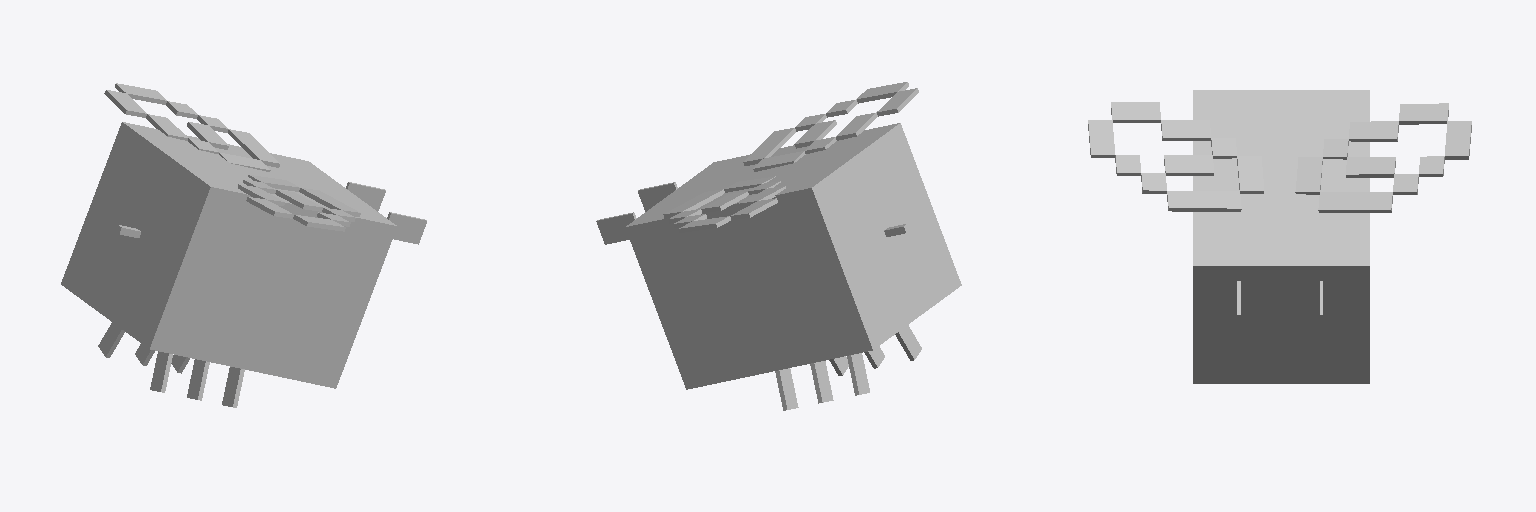
The model's file is Bee_ (205).obj.
3 renders of one model, left to right at view 1: azimuth 30°, elevation 25°; view 2: azimuth 150°, elevation 25°; view 3: azimuth 270°, elevation 25°, orthographic.
Visible parts, largest first — view 1: b_Bee_MAT_0, r_Bee_MAT_0, l_Bee_MAT_0; view 2: b_Bee_MAT_0, l_Bee_MAT_0, r_Bee_MAT_0; view 3: b_Bee_MAT_0, l_Bee_MAT_0, r_Bee_MAT_0.
Boxes of the visible parts, x1,y1,x2,y2 form: b_Bee_MAT_0: [61, 122, 426, 407]; r_Bee_MAT_0: [104, 83, 279, 171]; l_Bee_MAT_0: [238, 175, 360, 231]; b_Bee_MAT_0: [596, 123, 961, 410]; l_Bee_MAT_0: [743, 82, 918, 171]; r_Bee_MAT_0: [663, 176, 785, 232]; b_Bee_MAT_0: [1193, 90, 1369, 383]; l_Bee_MAT_0: [1088, 102, 1263, 211]; r_Bee_MAT_0: [1295, 103, 1471, 212].
Size of the model in its own units: 0.3067 by 0.2398 by 0.3398.